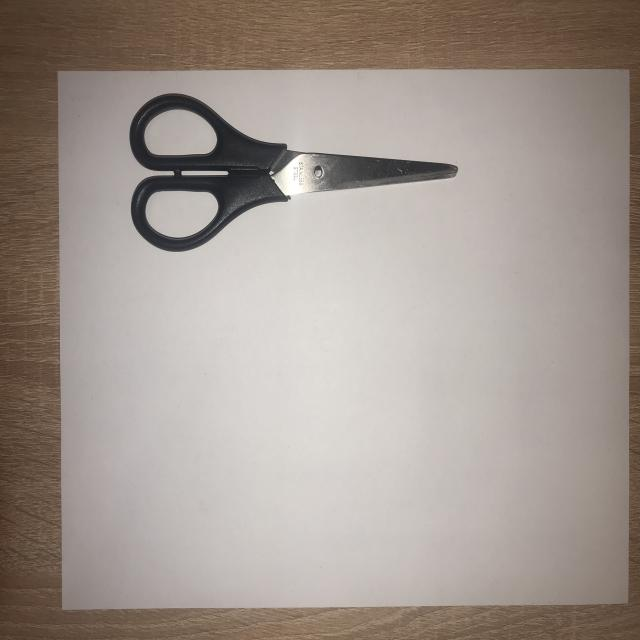scissors: (120, 85, 468, 256)
